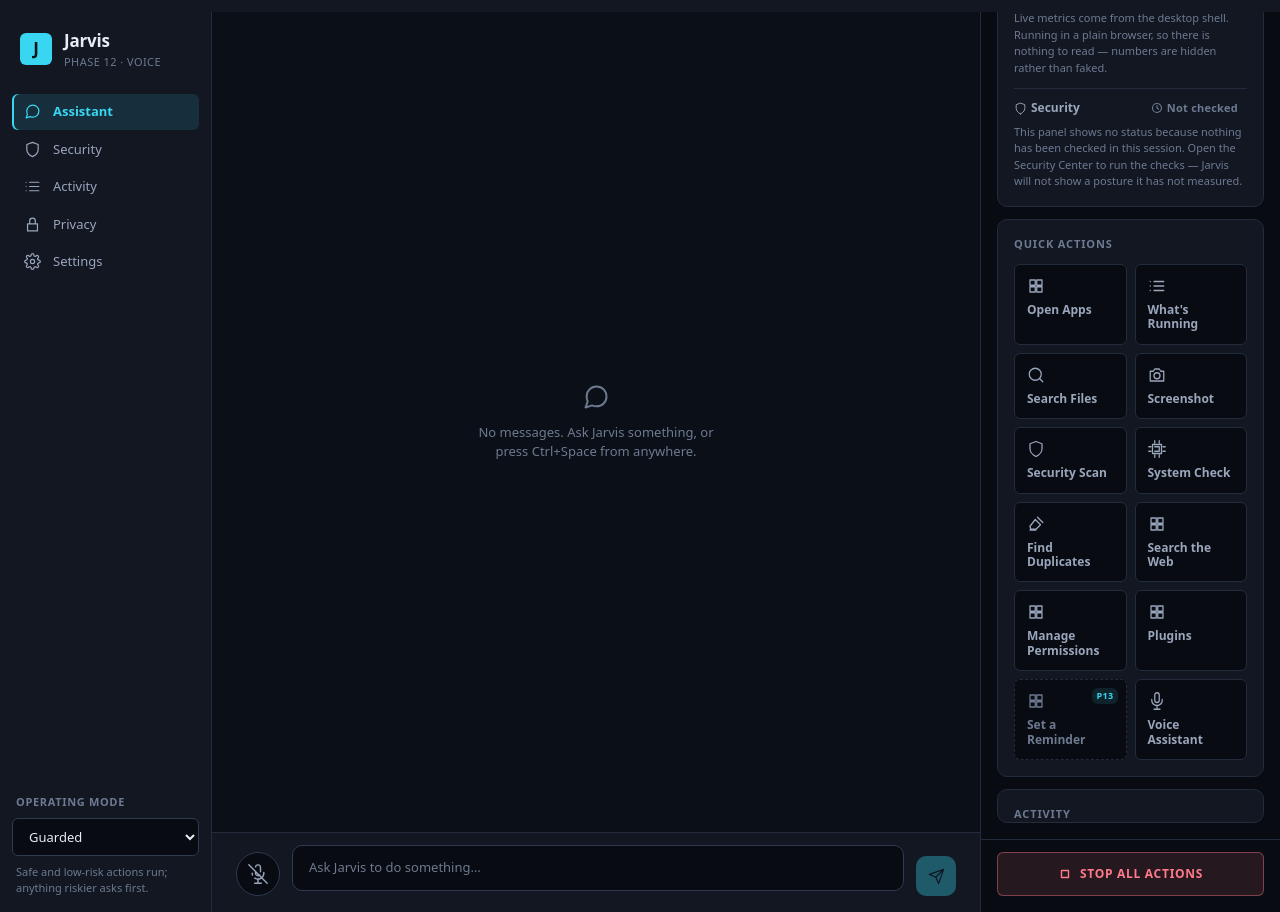
Test: App shell › a gated quick action names the phase it needs rather than acting
The width and height of the screenshot is (1280, 912).
(page scrolled)
Click the button "Set a Reminder P13". click: (1070, 720)
box: [1014,679,1126,760]
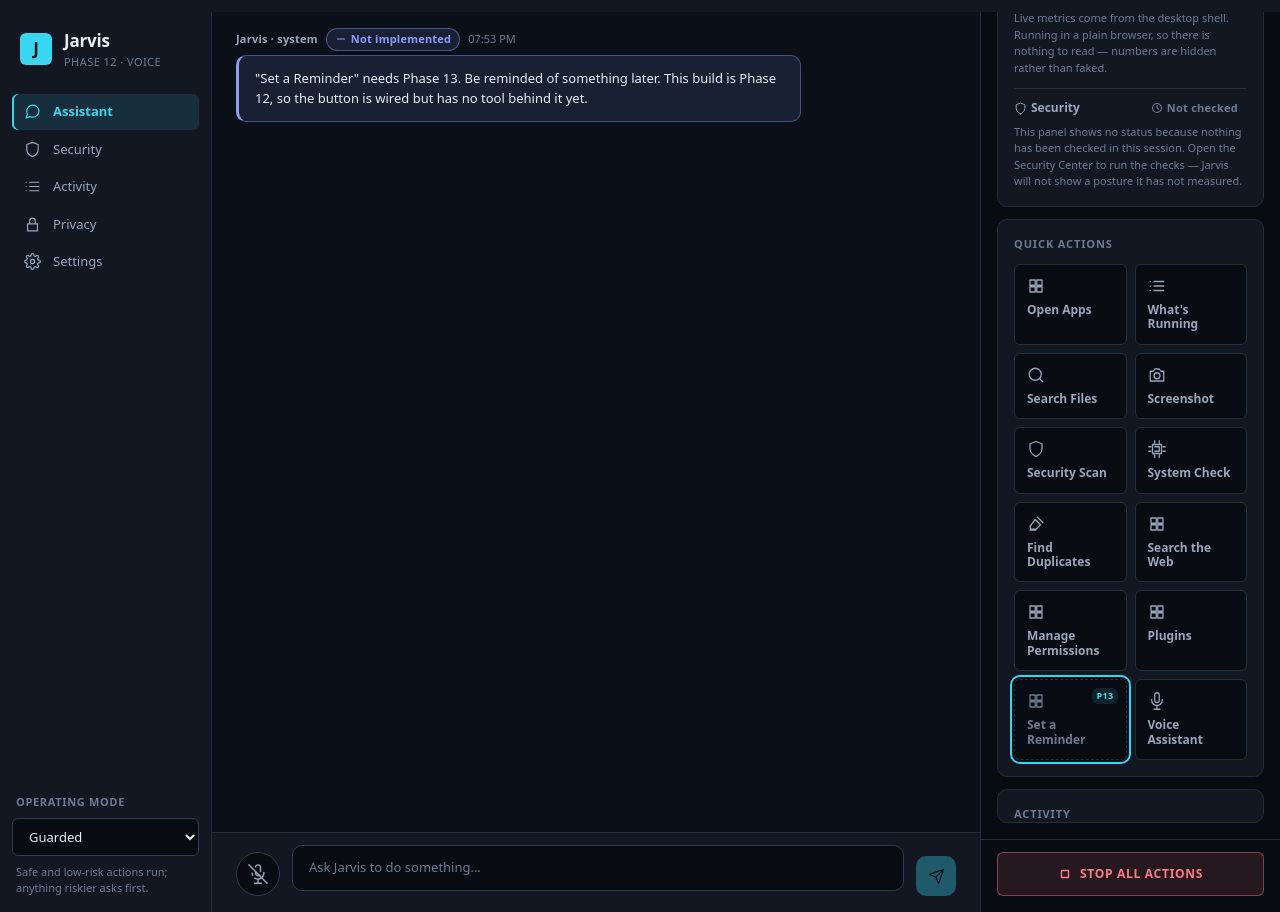
Result: the text "needs Phase 13" is shown at [255,68,780,107]
